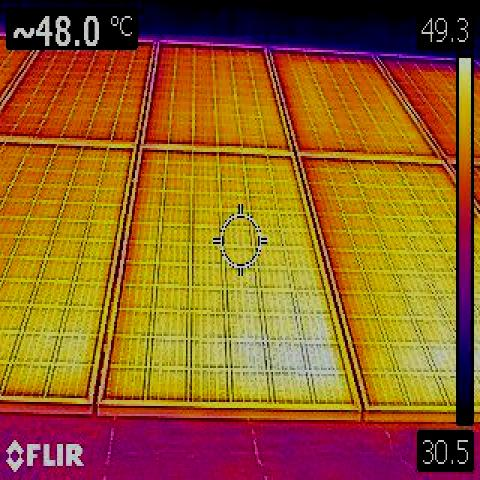fault: (235, 342, 341, 376)
